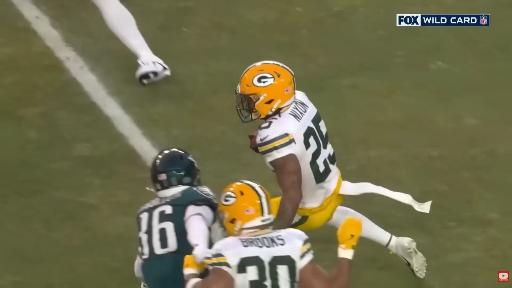Helmet: (236, 61, 295, 122), (219, 181, 273, 235), (151, 149, 200, 191)
Jersey: (257, 91, 339, 207), (138, 187, 217, 287), (206, 229, 313, 287)
Player: (236, 61, 431, 277), (184, 181, 361, 287), (135, 149, 217, 287), (93, 0, 170, 84)
